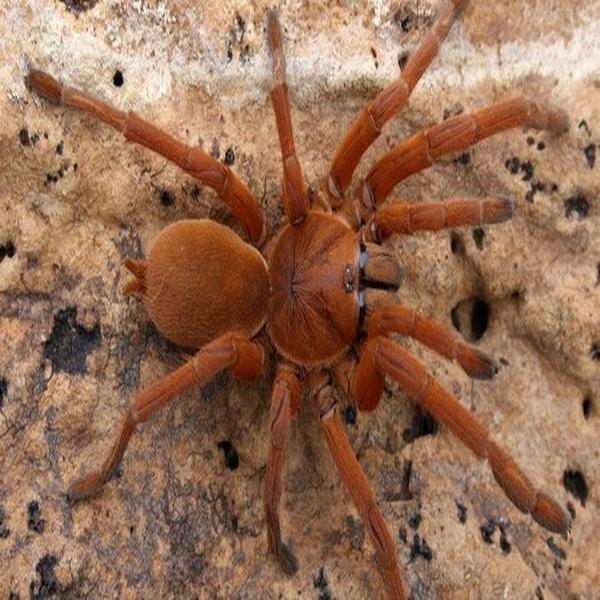Tarantula Spider: (49, 22, 555, 562)
